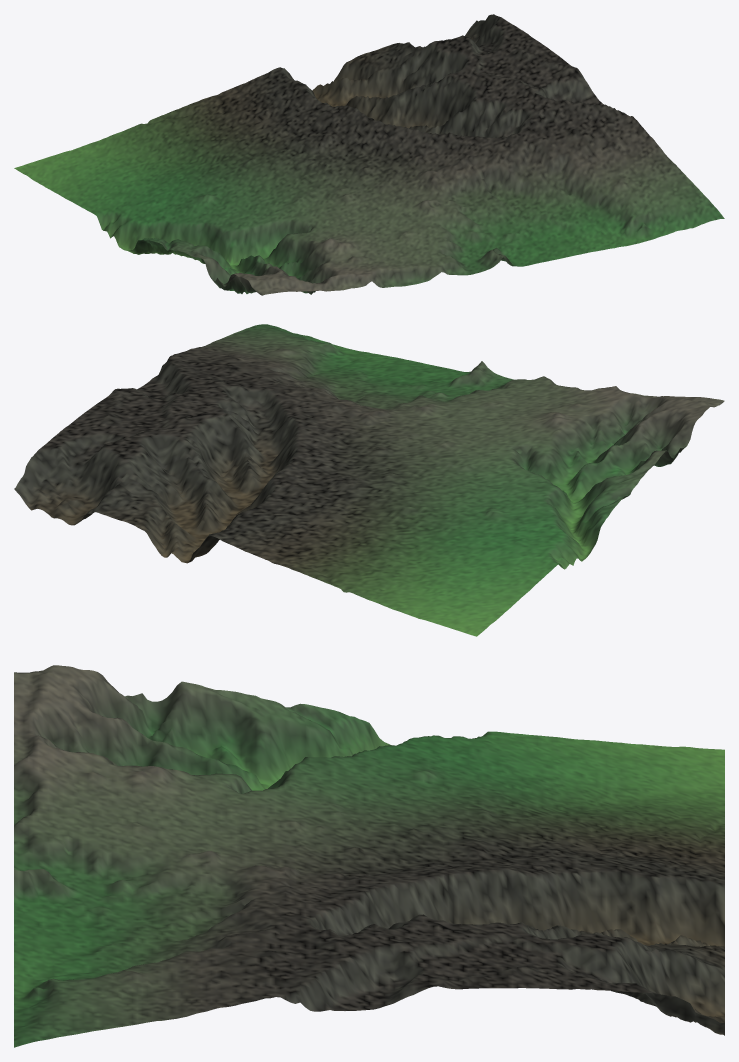
The model's file is lareunion-terrain-6.glb.
The picture shows the model from 3 angles, top to bottom: view 1: azimuth 30°, elevation 25°; view 2: azimuth 150°, elevation 25°; view 3: azimuth 270°, elevation 25°; orthographic projection. The views are drawn at different scales.
Parts seen in each view (by area): view 1: LaReunionRgeAltiTerrain_6; view 2: LaReunionRgeAltiTerrain_6; view 3: LaReunionRgeAltiTerrain_6.
Boxes of the visible parts, x1=… form: LaReunionRgeAltiTerrain_6: x1=14, y1=14, x2=724, y2=295; LaReunionRgeAltiTerrain_6: x1=14, y1=324, x2=724, y2=636; LaReunionRgeAltiTerrain_6: x1=14, y1=665, x2=724, y2=1047.
Size of the model in its own units: 55.09 by 7.32 by 51.16.
